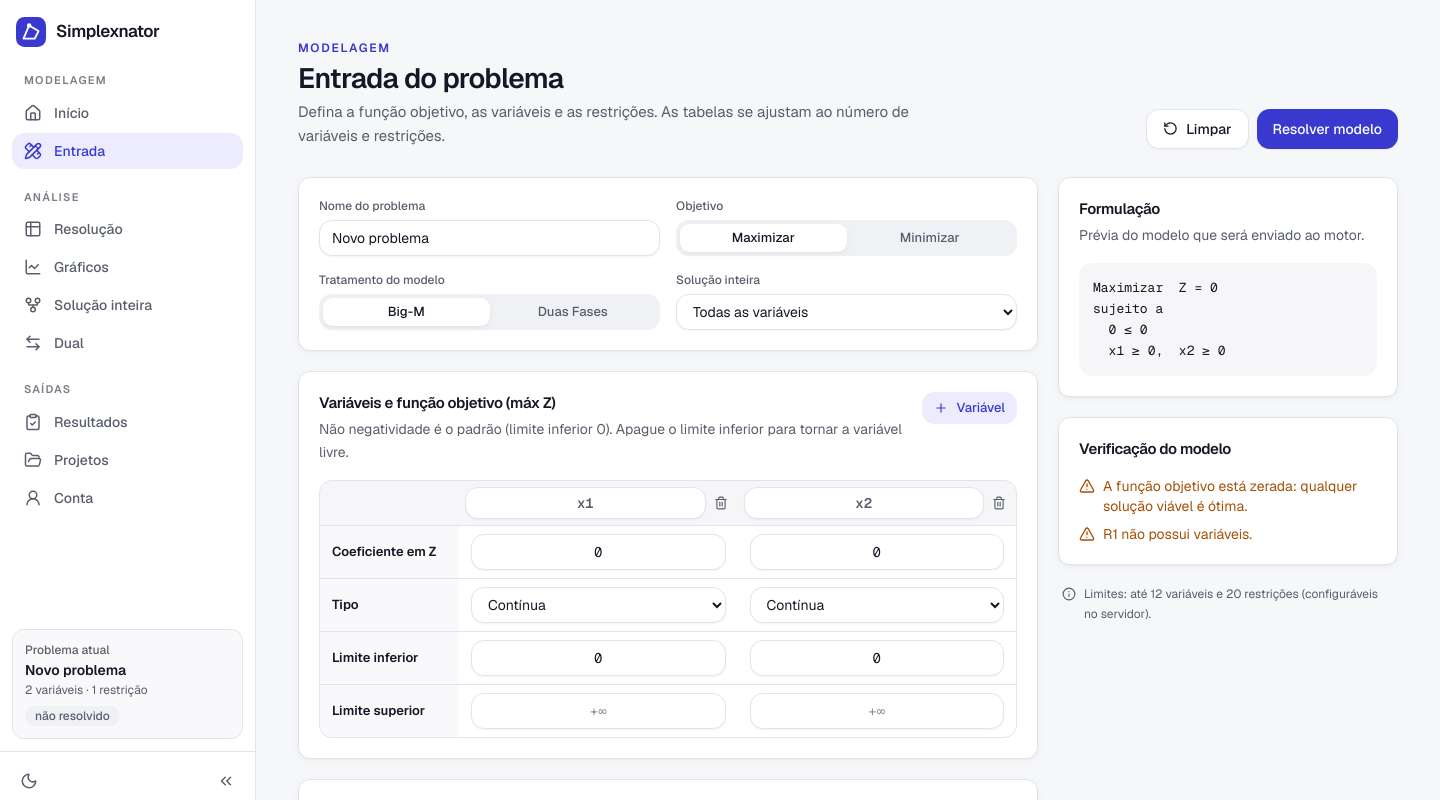
Entrada: validação e edição › bloqueia a resolução com nomes repetidos e informa o erro
Replace the text in the field named "Nome da variável" with "x1": point(864, 503) left=744, top=487, right=984, bottom=519
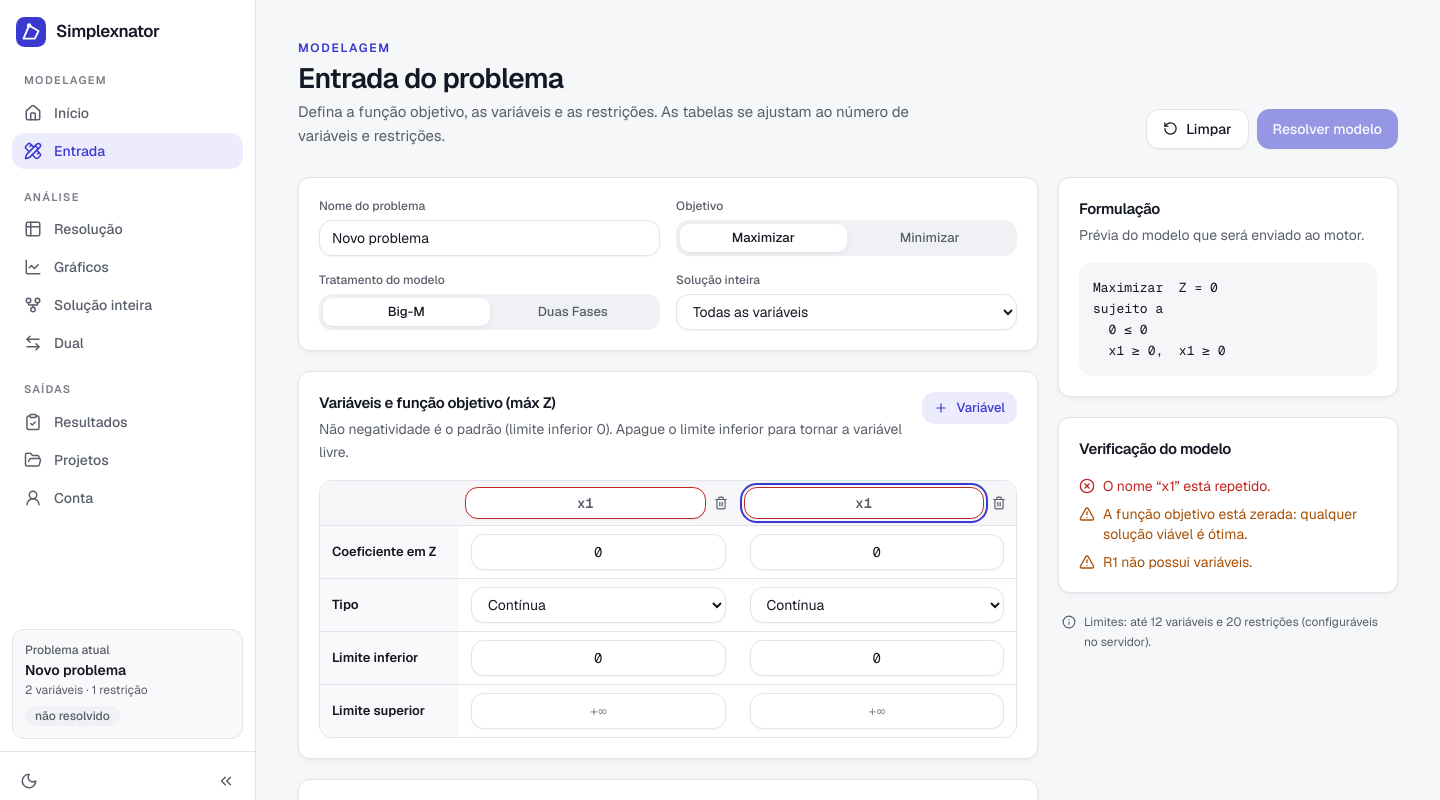
Expected: the button "Resolver modelo" is disabled, left=1257, top=109, right=1398, bottom=149
Expected: the list item "O nome “x1” está repetido." is shown, left=1079, top=477, right=1270, bottom=495
